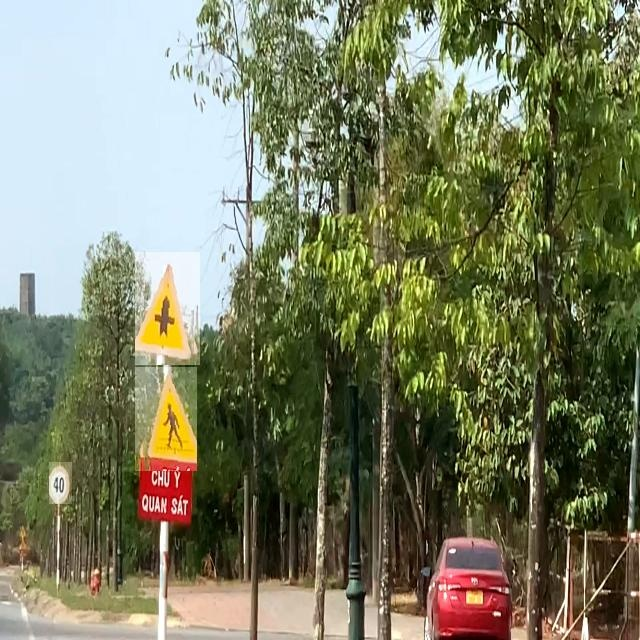bien_nguy_hiem: (135, 252, 200, 365), (135, 367, 197, 471), (49, 462, 72, 504)
